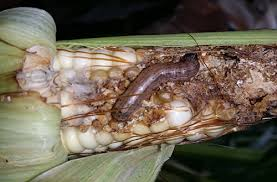Armyworm: (109, 50, 203, 127)
